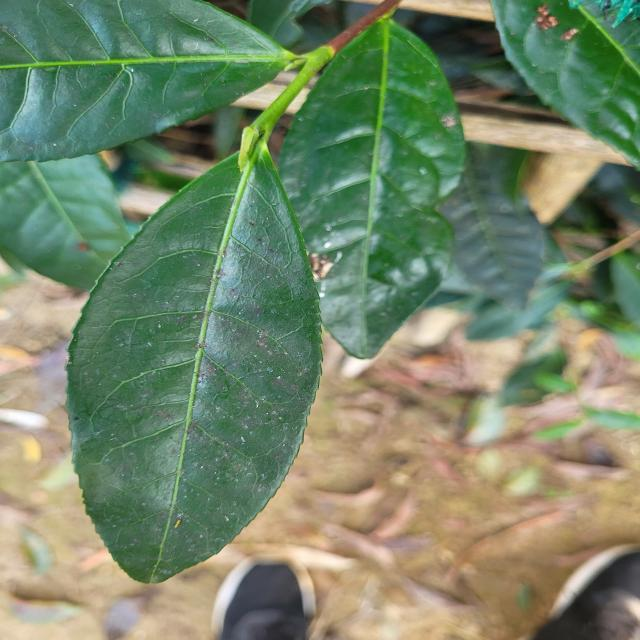Category D(7+ days, Not for Tea): (47, 108, 345, 601)
